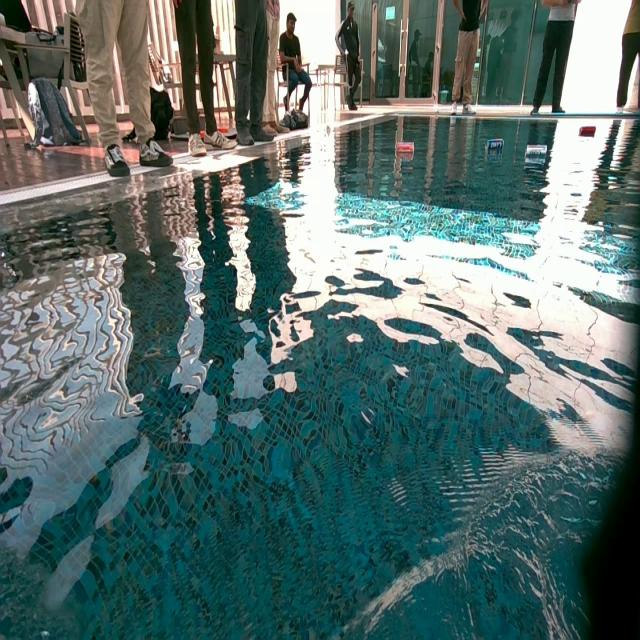Cans: (525, 144, 547, 158), (486, 138, 504, 154), (400, 141, 416, 159), (578, 125, 598, 137)
